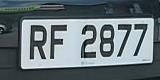2: (79, 22, 100, 61)
7: (132, 22, 151, 60), (116, 22, 133, 57)
8: (99, 24, 116, 58)
F: (49, 22, 68, 64)
R: (26, 20, 51, 66)
